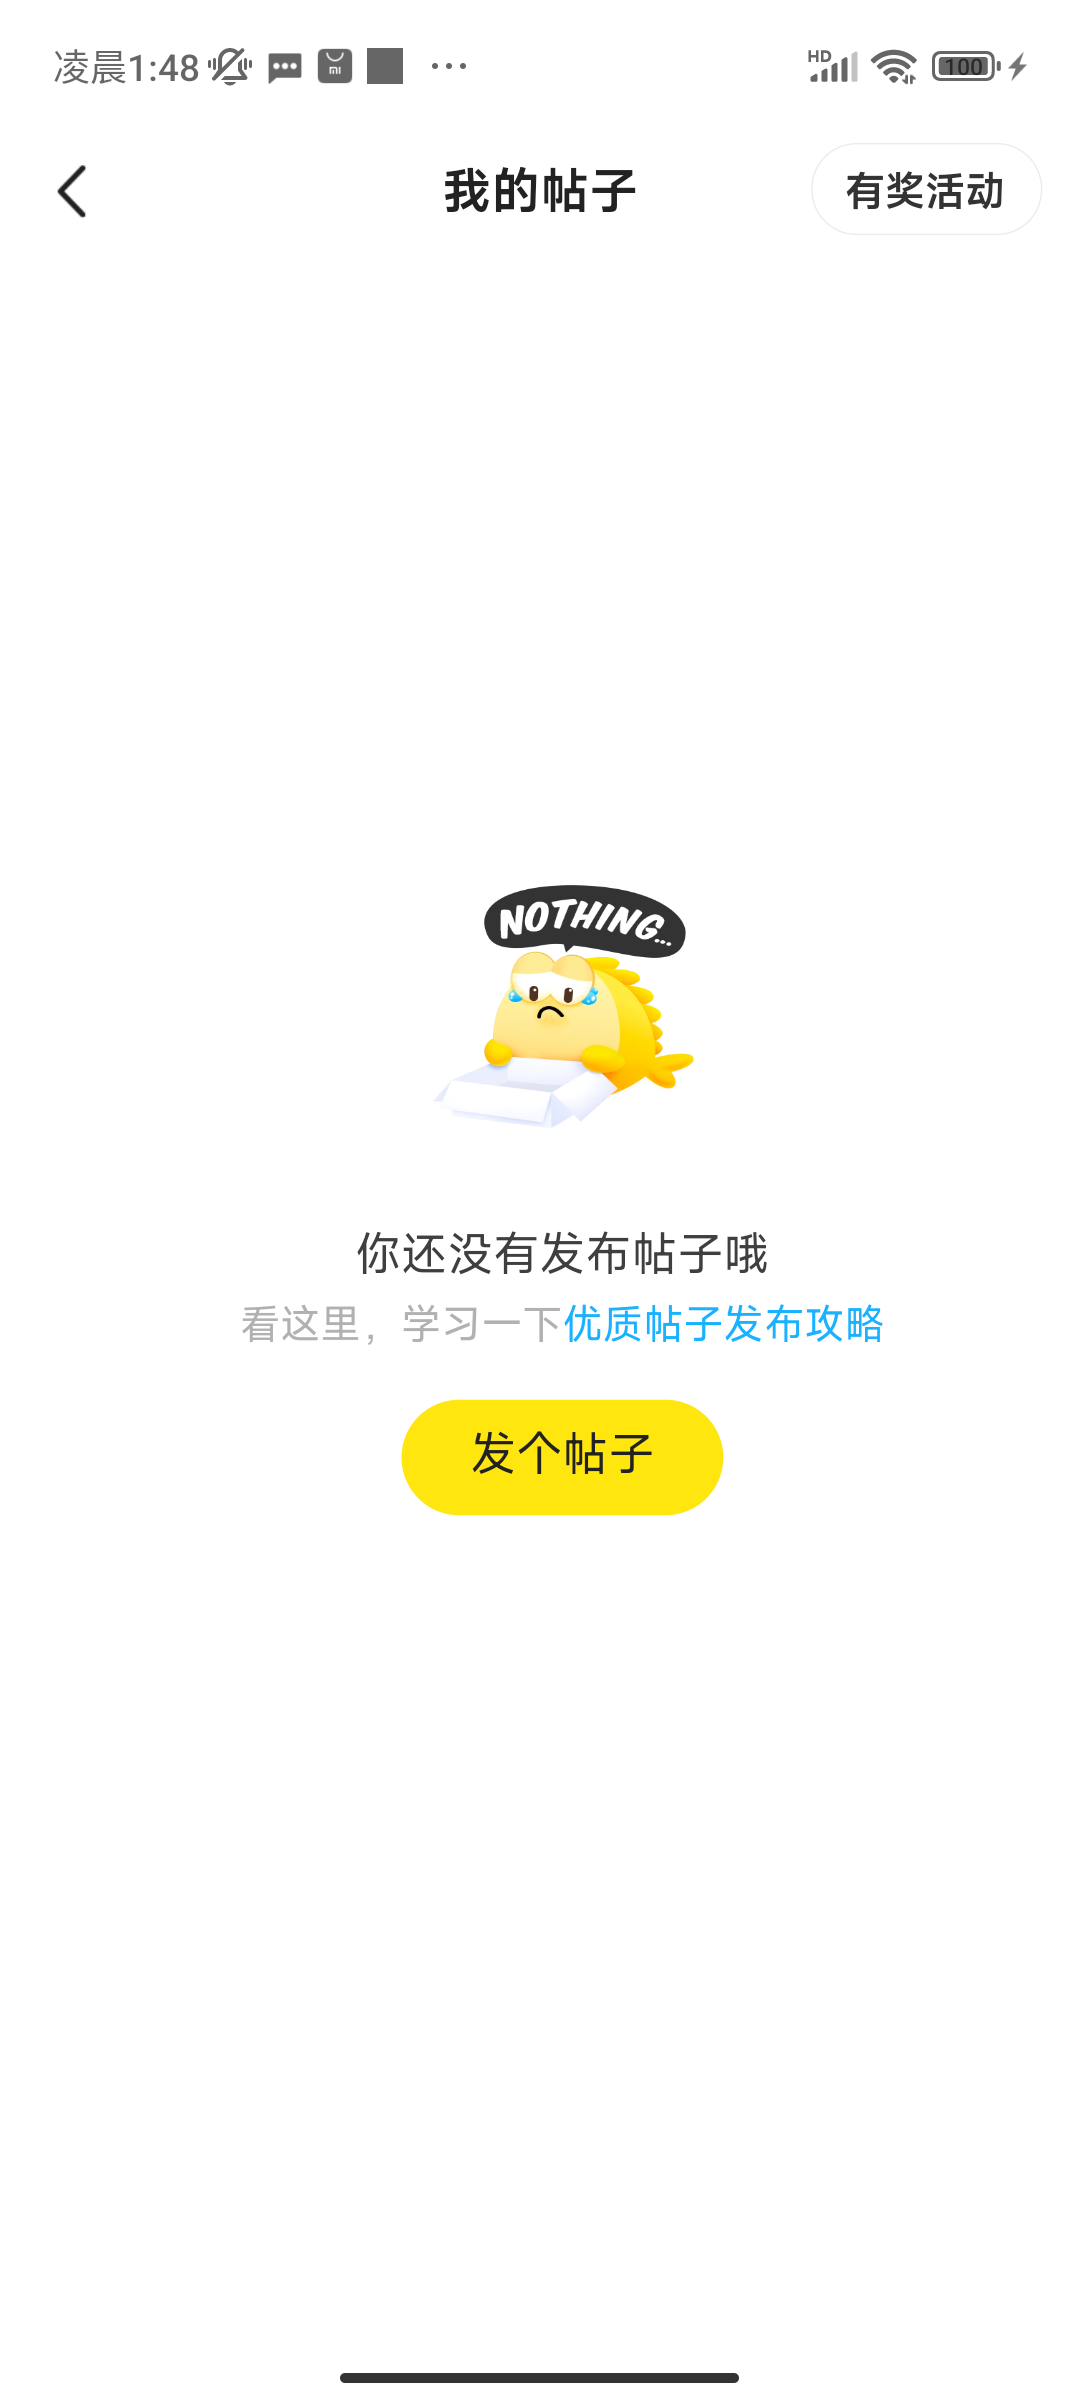ui_group: (177, 1166, 932, 1543)
